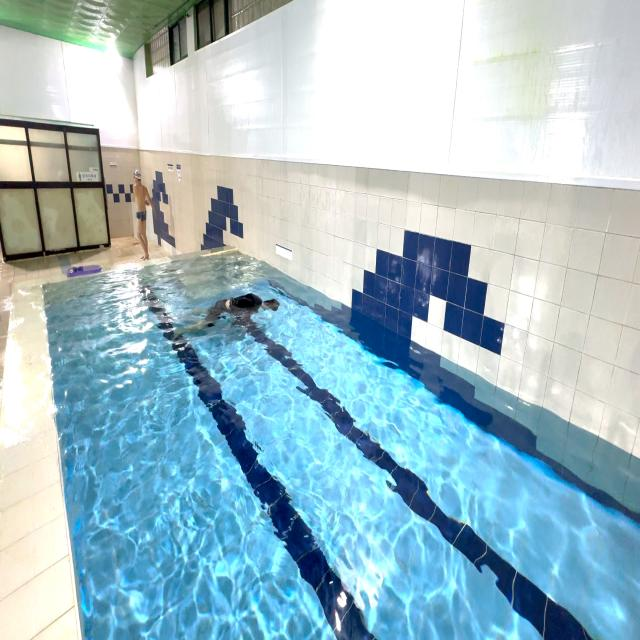Drowning: (176, 283, 287, 345)
